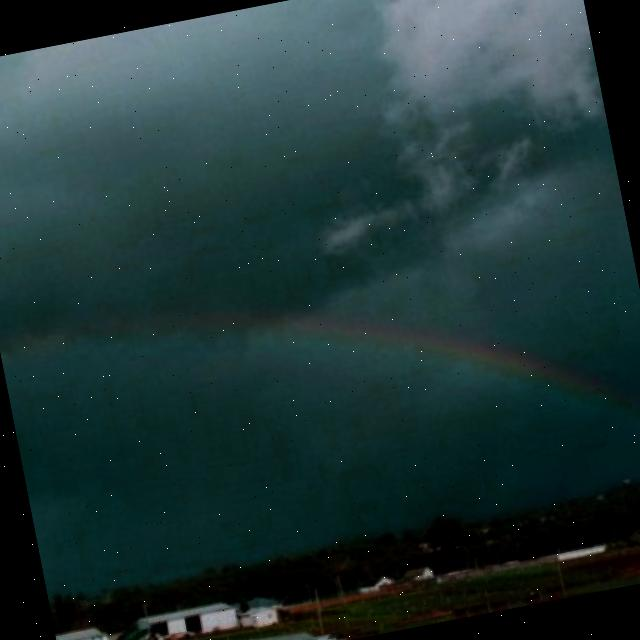St: (86, 1, 638, 374)
